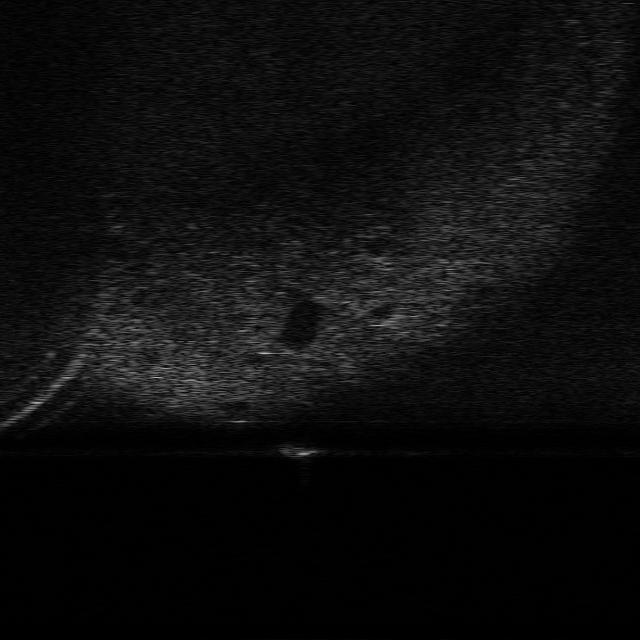cube: (274, 442, 332, 460)
